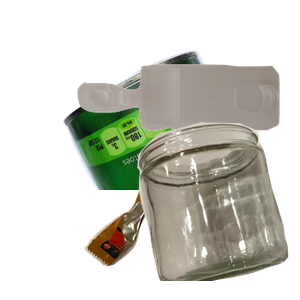glass: (135, 120, 300, 300)
metal: (60, 48, 300, 228)
plastic: (75, 62, 300, 186)
trash: (82, 151, 260, 300)
